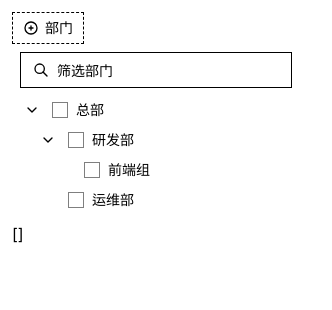
Scenario: DataTableTreeFilter › selects nodes independently when selectionMode is independent
Click the list item with aria-label "研发部，未选中": coordinates (85, 140) [36, 128, 134, 152]
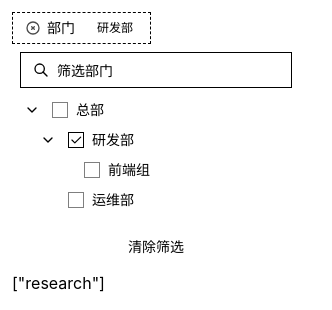
Check: the text named "当前部门筛选值" reads "[\"research\"]", box [12, 273, 105, 293]
